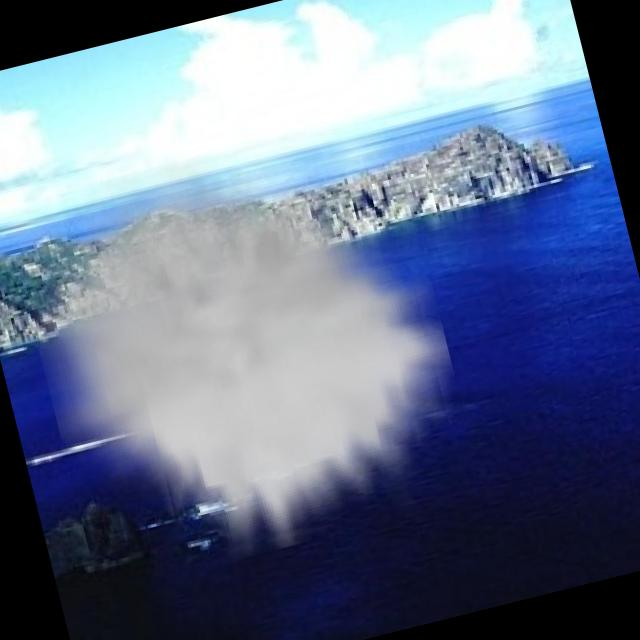Smoke: (3, 109, 485, 593)
